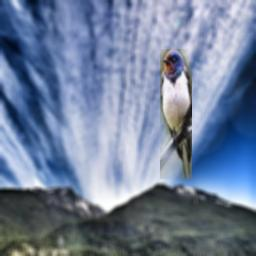Swallow: (160, 49, 192, 179)
